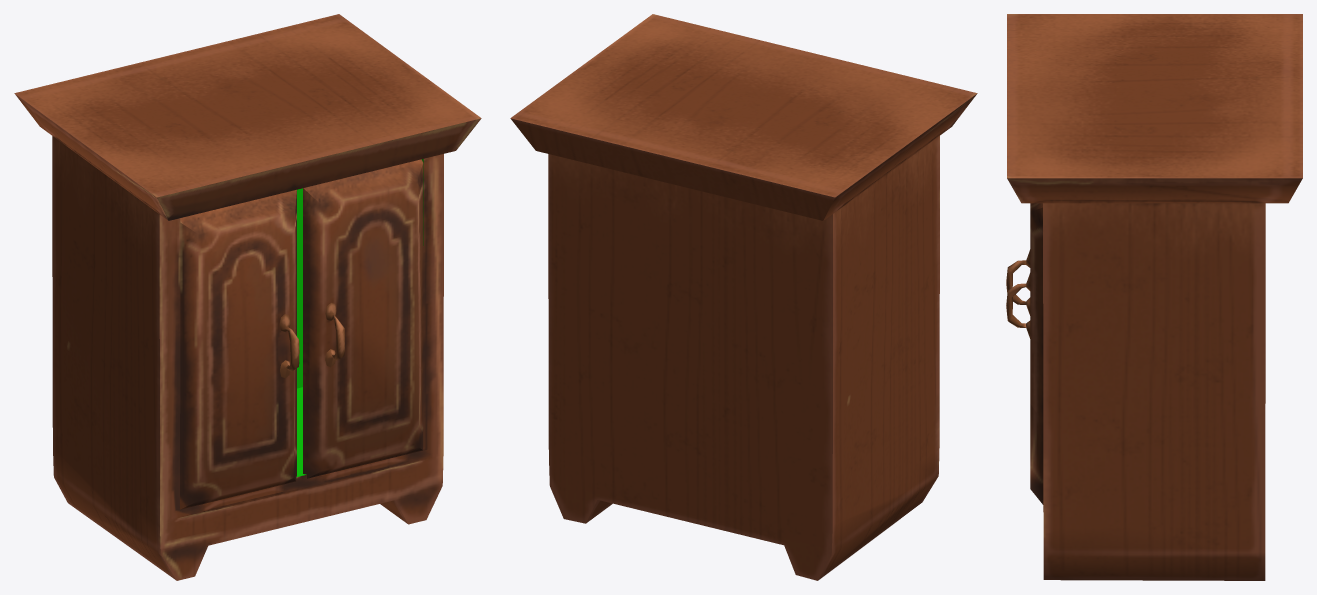
The model's file is petitmeuble_shatter.fbx.
The picture shows the model from 3 angles, left to right: view 1: azimuth 30°, elevation 25°; view 2: azimuth 150°, elevation 25°; view 3: azimuth 270°, elevation 25°; orthographic projection. The views are drawn at different scales.
Visible parts, largest first — view 1: Tore_1_3, Pieces_4_2, Pieces_3_2, Pieces_2, Pieces_1_3, Pieces_2_3, Pieces_3, Pieces_4, Pieces_1_2, Pieces_1, Tore_1_2, Tore_1; view 2: Pieces_4_2, Pieces_1, Pieces_2, Pieces_4, Pieces_3, Pieces_1_2, Pieces_3_2; view 3: Pieces_1, Pieces_3, Pieces_4, Pieces_2, Pieces_3_2, Pieces_1_2, Pieces_1_3, Pieces_2_3, Tore_1, Tore_1_2.
Part boxes in pixels (x1,y1,x2,y2): Tore_1_3: (180,189,296,509); Pieces_4_2: (52,198,302,556); Pieces_3_2: (135,247,443,580); Pieces_2: (14,68,252,251); Pieces_1_3: (303,159,423,370); Pieces_2_3: (303,285,423,478); Pieces_3: (261,45,481,175); Pieces_4: (133,14,380,123); Pieces_1_2: (116,64,353,200); Pieces_1: (297,154,443,441); Tore_1_2: (279,314,299,378); Tore_1: (325,303,344,367); Pieces_4_2: (555,158,939,580); Pieces_1: (548,154,729,480); Pieces_2: (673,70,977,391); Pieces_4: (510,87,773,187); Pieces_3: (552,14,804,91); Pieces_1_2: (687,51,883,198); Pieces_3_2: (549,217,939,525); Pieces_1: (1043,203,1265,551); Pieces_3: (1007,92,1215,203); Pieces_4: (1110,74,1302,203); Pieces_2: (1007,14,1302,65); Pieces_3_2: (1043,506,1265,580); Pieces_1_2: (1007,61,1302,101); Pieces_1_3: (1030,203,1043,422); Pieces_2_3: (1030,404,1043,504); Tore_1: (1006,273,1030,338); Tore_1_2: (1006,249,1030,315).
Size of the model in its own units: 41.45 by 49.44 by 31.6.
Materials: 3 (1 with a texture image).
